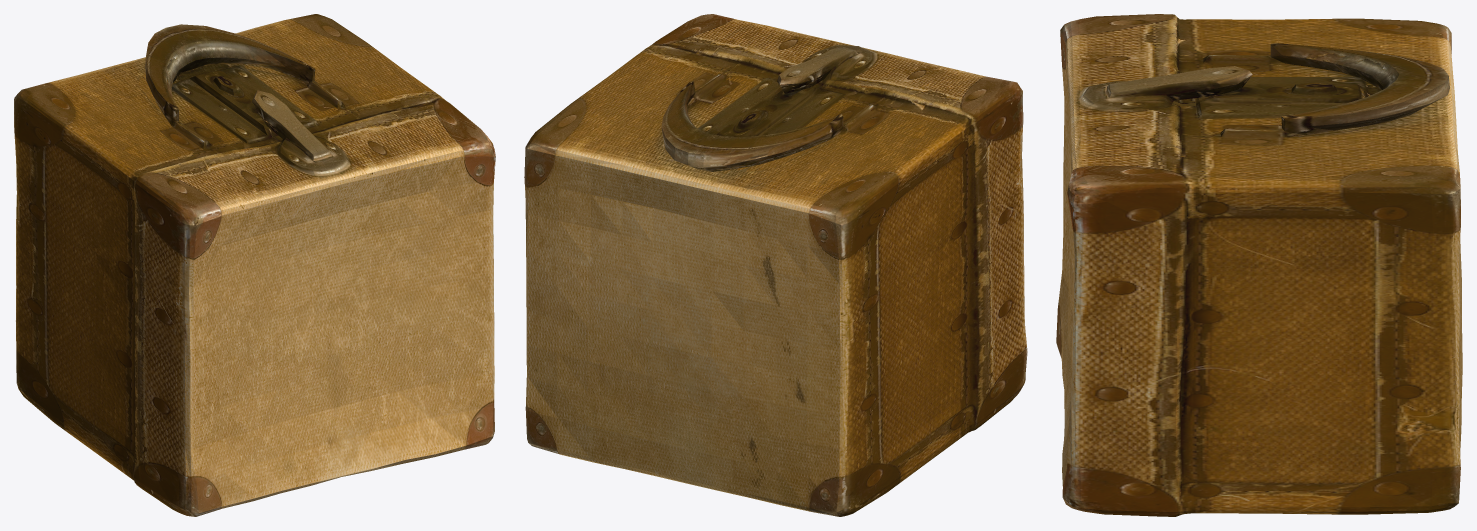
The model's file is suitcase.obj.
3 renders of one model, left to right at view 1: azimuth 30°, elevation 25°; view 2: azimuth 150°, elevation 25°; view 3: azimuth 270°, elevation 25°, orthographic. The views are drawn at different scales.
Size of the model in its own units: 1 by 1 by 1.
1 material, 1 textured.
